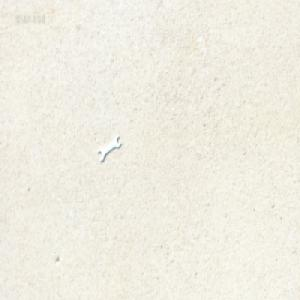Wrench: (97, 131, 121, 160)
